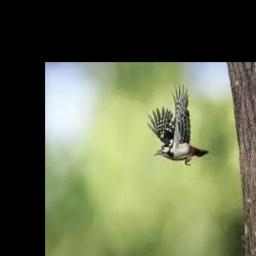Woodpecker: (146, 82, 208, 166)
